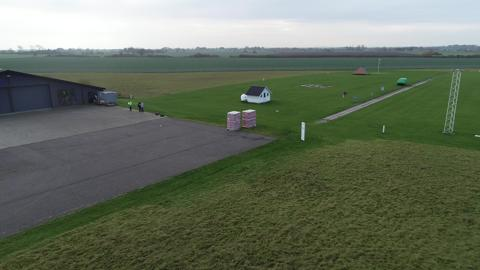RockwoolPallet: (242, 109, 255, 128)
